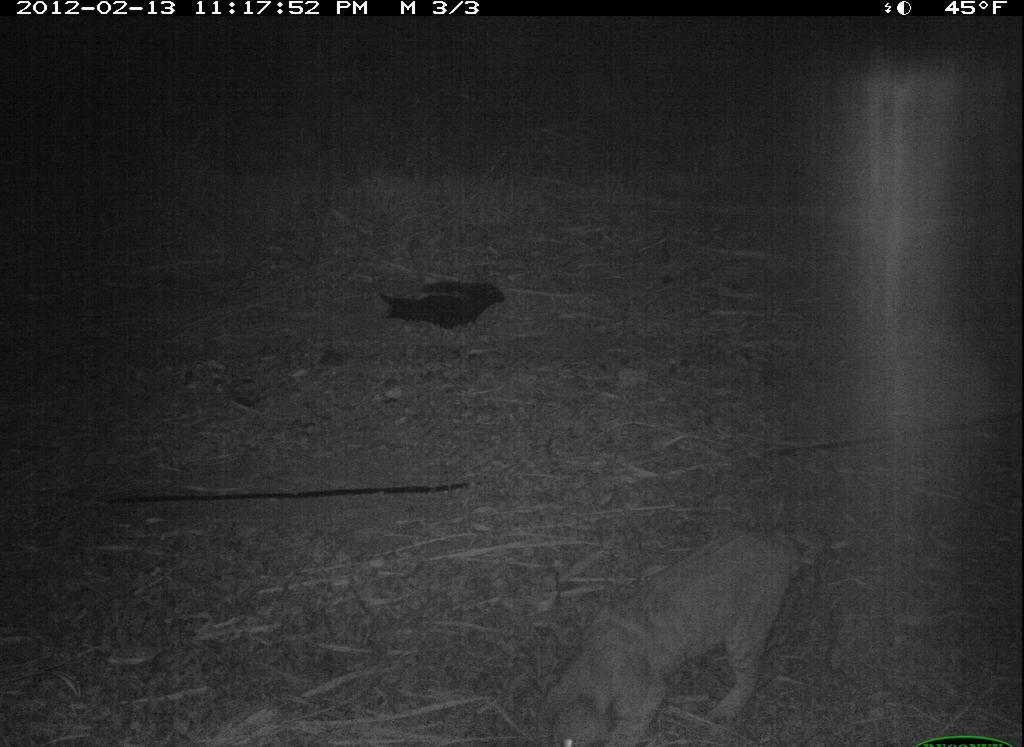bobcat: (536, 520, 817, 747)
